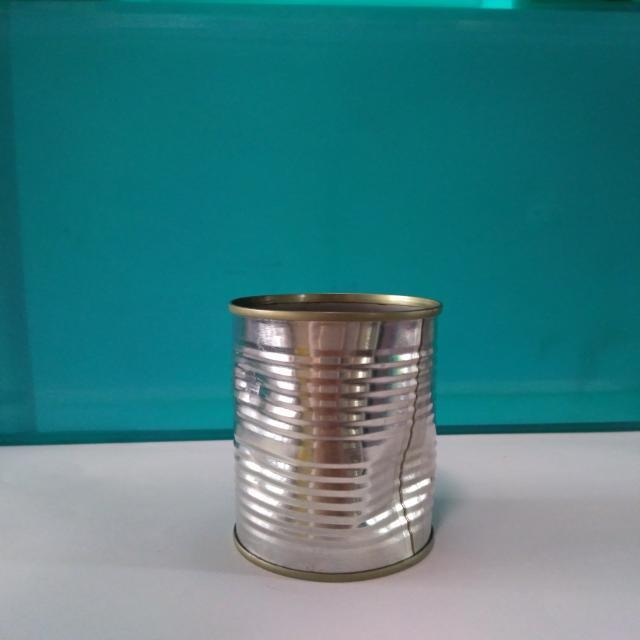metal-can: (226, 290, 444, 584)
